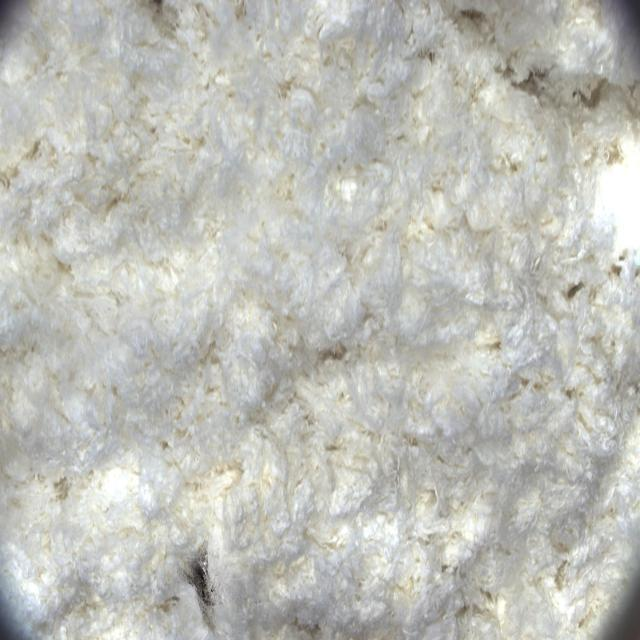dust: (148, 525, 254, 640)
